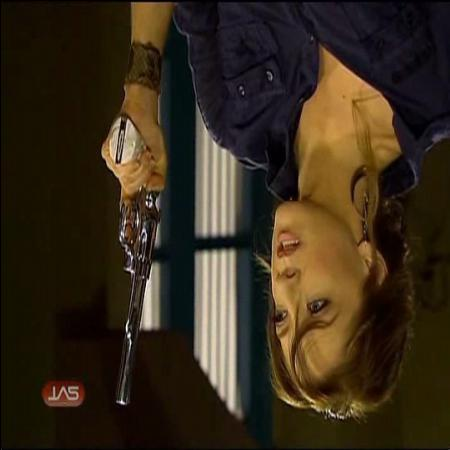Pistol: (92, 116, 160, 408)
